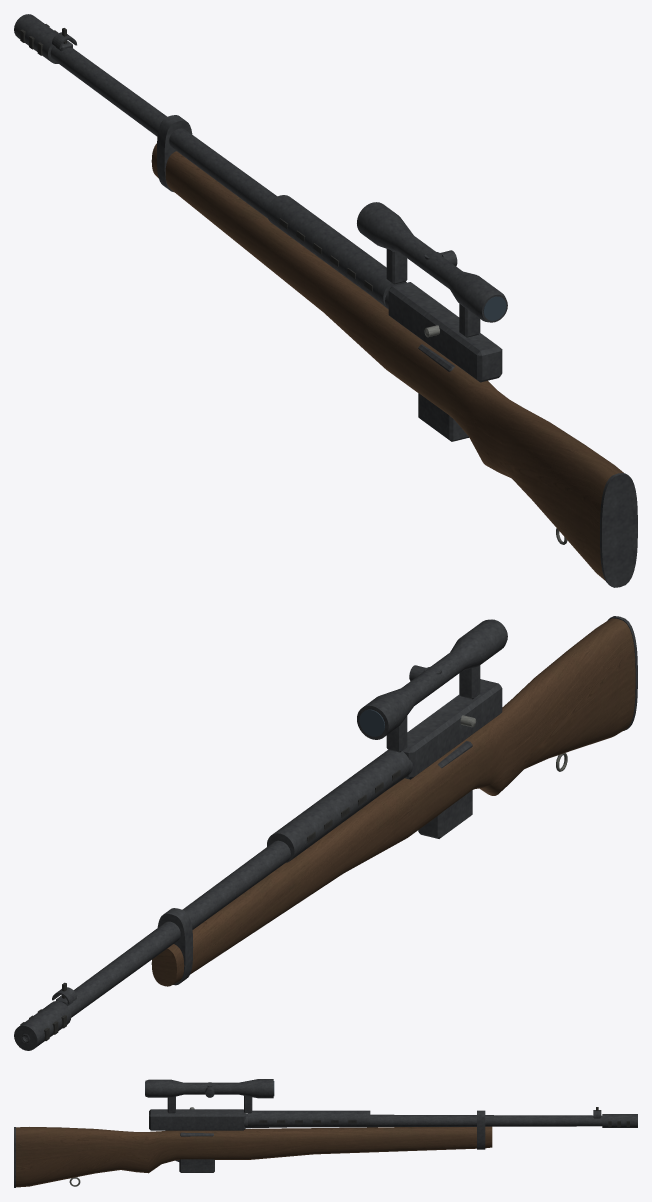
Rendered from svt40.glb.
3 views of the same model, one above another, from view 1: azimuth 30°, elevation 25°; view 2: azimuth 150°, elevation 25°; view 3: azimuth 270°, elevation 25° (orthographic). The views are drawn at different scales.
Visible parts, largest first — view 1: FP_body, TP_body, FP_mag, WD_body; view 2: FP_body, TP_body, FP_mag, WD_body; view 3: FP_body, TP_body, FP_mag.
Boxes of the visible parts, x1,y1,x2,y2 form: FP_body: [14, 14, 637, 587]; TP_body: [16, 15, 637, 586]; FP_mag: [418, 344, 468, 441]; WD_body: [49, 45, 635, 585]; FP_body: [14, 616, 637, 1050]; TP_body: [16, 616, 636, 1050]; FP_mag: [418, 741, 472, 838]; WD_body: [14, 620, 505, 1049]; FP_body: [14, 1079, 637, 1187]; TP_body: [14, 1110, 637, 1187]; FP_mag: [179, 1132, 214, 1172].
Bounding box in the file's own units: 0.0545 × 0.232 × 1.23.
6 materials, 5 textured.
